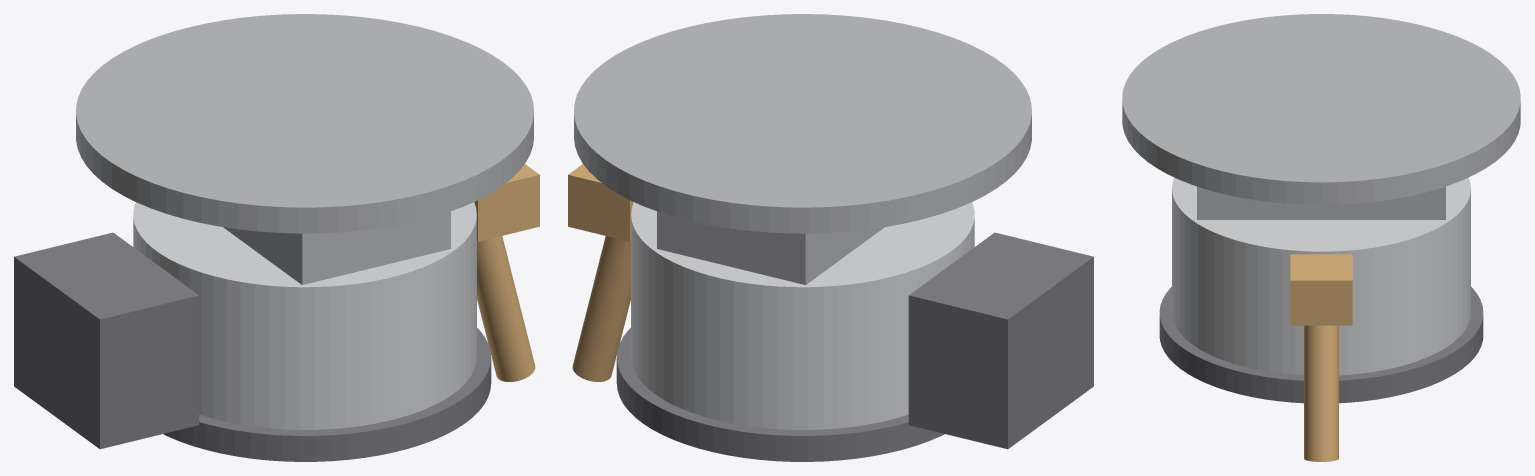
The model's file is prop02_hall_thruster.glb.
The picture shows the model from 3 angles, left to right: view 1: azimuth 30°, elevation 25°; view 2: azimuth 150°, elevation 25°; view 3: azimuth 270°, elevation 25°; orthographic projection. The views are drawn at different scales.
Visible parts, largest first — view 1: mount_bracket, thruster_body, flow_controller, pole_pieces, cathode; view 2: mount_bracket, thruster_body, flow_controller, pole_pieces, cathode; view 3: mount_bracket, thruster_body, pole_pieces, cathode.
Boxes of the visible parts, bbox=[...] form: mount_bracket: bbox=[76, 14, 533, 284]; thruster_body: bbox=[133, 202, 476, 429]; flow_controller: bbox=[14, 232, 199, 449]; pole_pieces: bbox=[163, 328, 491, 461]; cathode: bbox=[474, 164, 539, 381]; mount_bracket: bbox=[574, 14, 1031, 284]; thruster_body: bbox=[631, 202, 974, 429]; flow_controller: bbox=[908, 232, 1093, 449]; pole_pieces: bbox=[616, 328, 944, 461]; cathode: bbox=[568, 164, 633, 381]; mount_bracket: bbox=[1122, 14, 1520, 219]; thruster_body: bbox=[1172, 177, 1470, 375]; pole_pieces: bbox=[1159, 287, 1483, 403]; cathode: bbox=[1290, 254, 1352, 461].
Size of the model in its own units: 0.3836 by 0.2434 by 0.3199.
